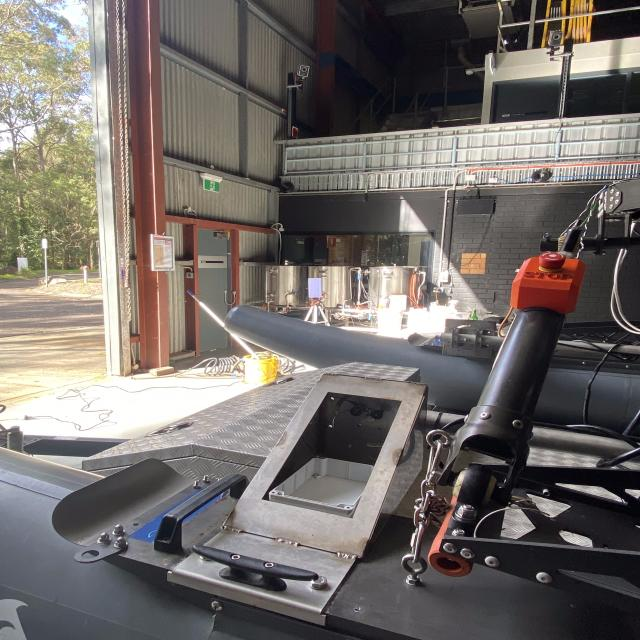matrix: (306, 277, 325, 301)
